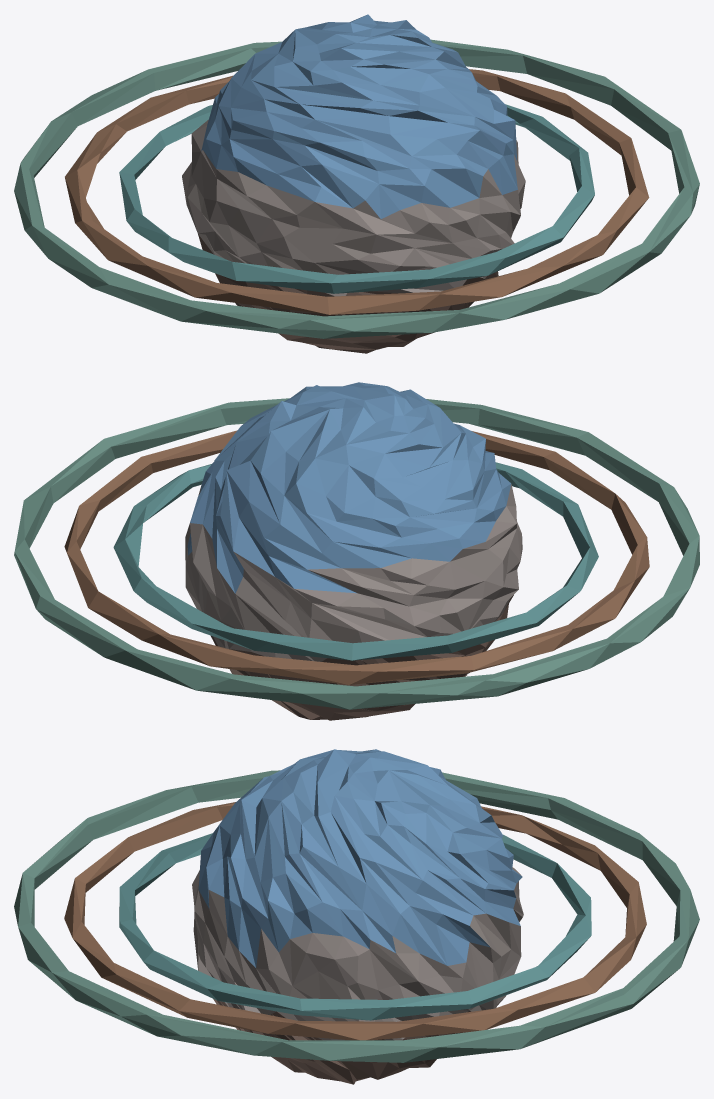
Rendered from saturn.glb.
The picture shows the model from 3 angles, top to bottom: view 1: azimuth 30°, elevation 25°; view 2: azimuth 150°, elevation 25°; view 3: azimuth 270°, elevation 25°; orthographic projection.
Size of the model in its own units: 75.78 by 37.78 by 76.1.
Materials: 1 (1 with a texture image).
